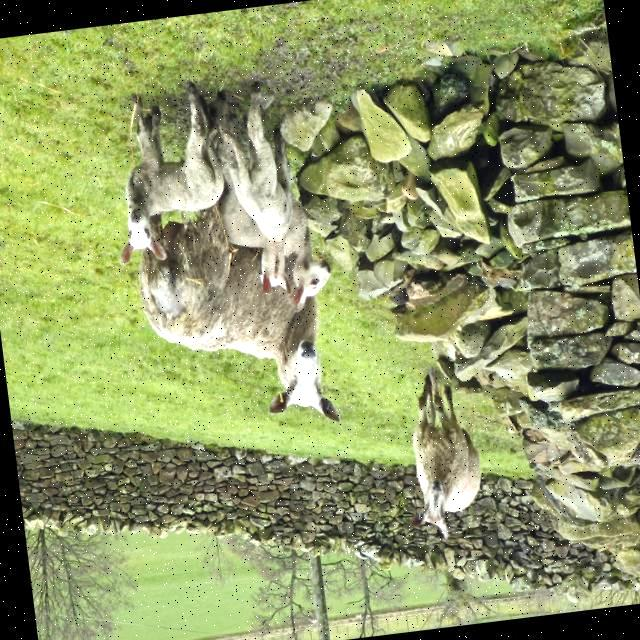sheep: (142, 202, 339, 421), (218, 130, 330, 302), (121, 91, 224, 262), (222, 95, 291, 288), (412, 374, 481, 537)
